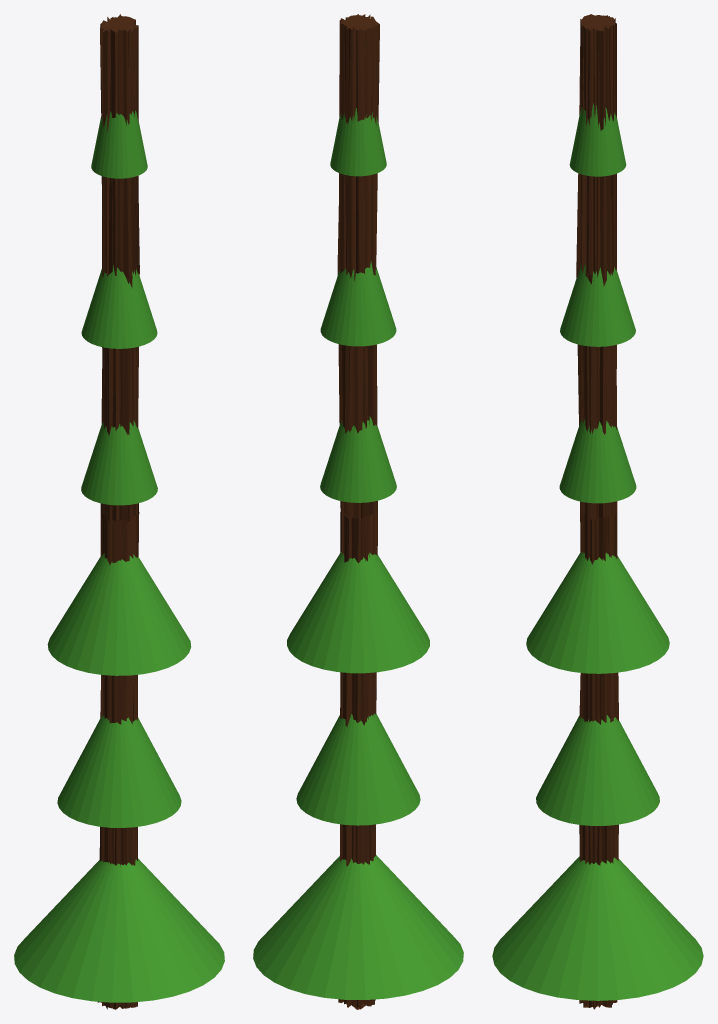
File: pine_sparse.glb
3 renders of one model, left to right at view 1: azimuth 30°, elevation 25°; view 2: azimuth 150°, elevation 25°; view 3: azimuth 270°, elevation 25°, orthographic.
Visible parts, largest first — view 1: ColoredPine_Sparse; view 2: ColoredPine_Sparse; view 3: ColoredPine_Sparse.
Part boxes in pixels (x1=…): ColoredPine_Sparse: x1=14, y1=14, x2=224, y2=1009; ColoredPine_Sparse: x1=253, y1=14, x2=463, y2=1009; ColoredPine_Sparse: x1=492, y1=14, x2=703, y2=1009.
Bounding box in the file's own units: 3.92 × 20.14 × 3.92.
